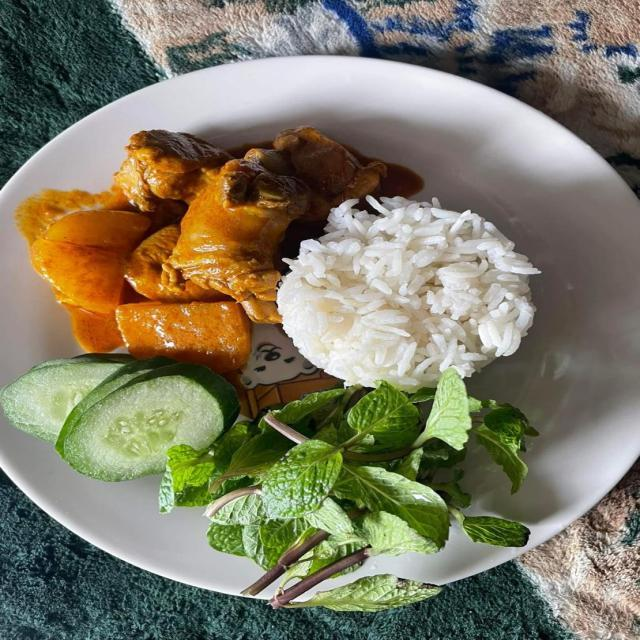Chicken: (110, 128, 387, 325)
Plate: (0, 57, 639, 539)
Rice: (280, 198, 535, 387)
Vegetables: (3, 209, 540, 612)
